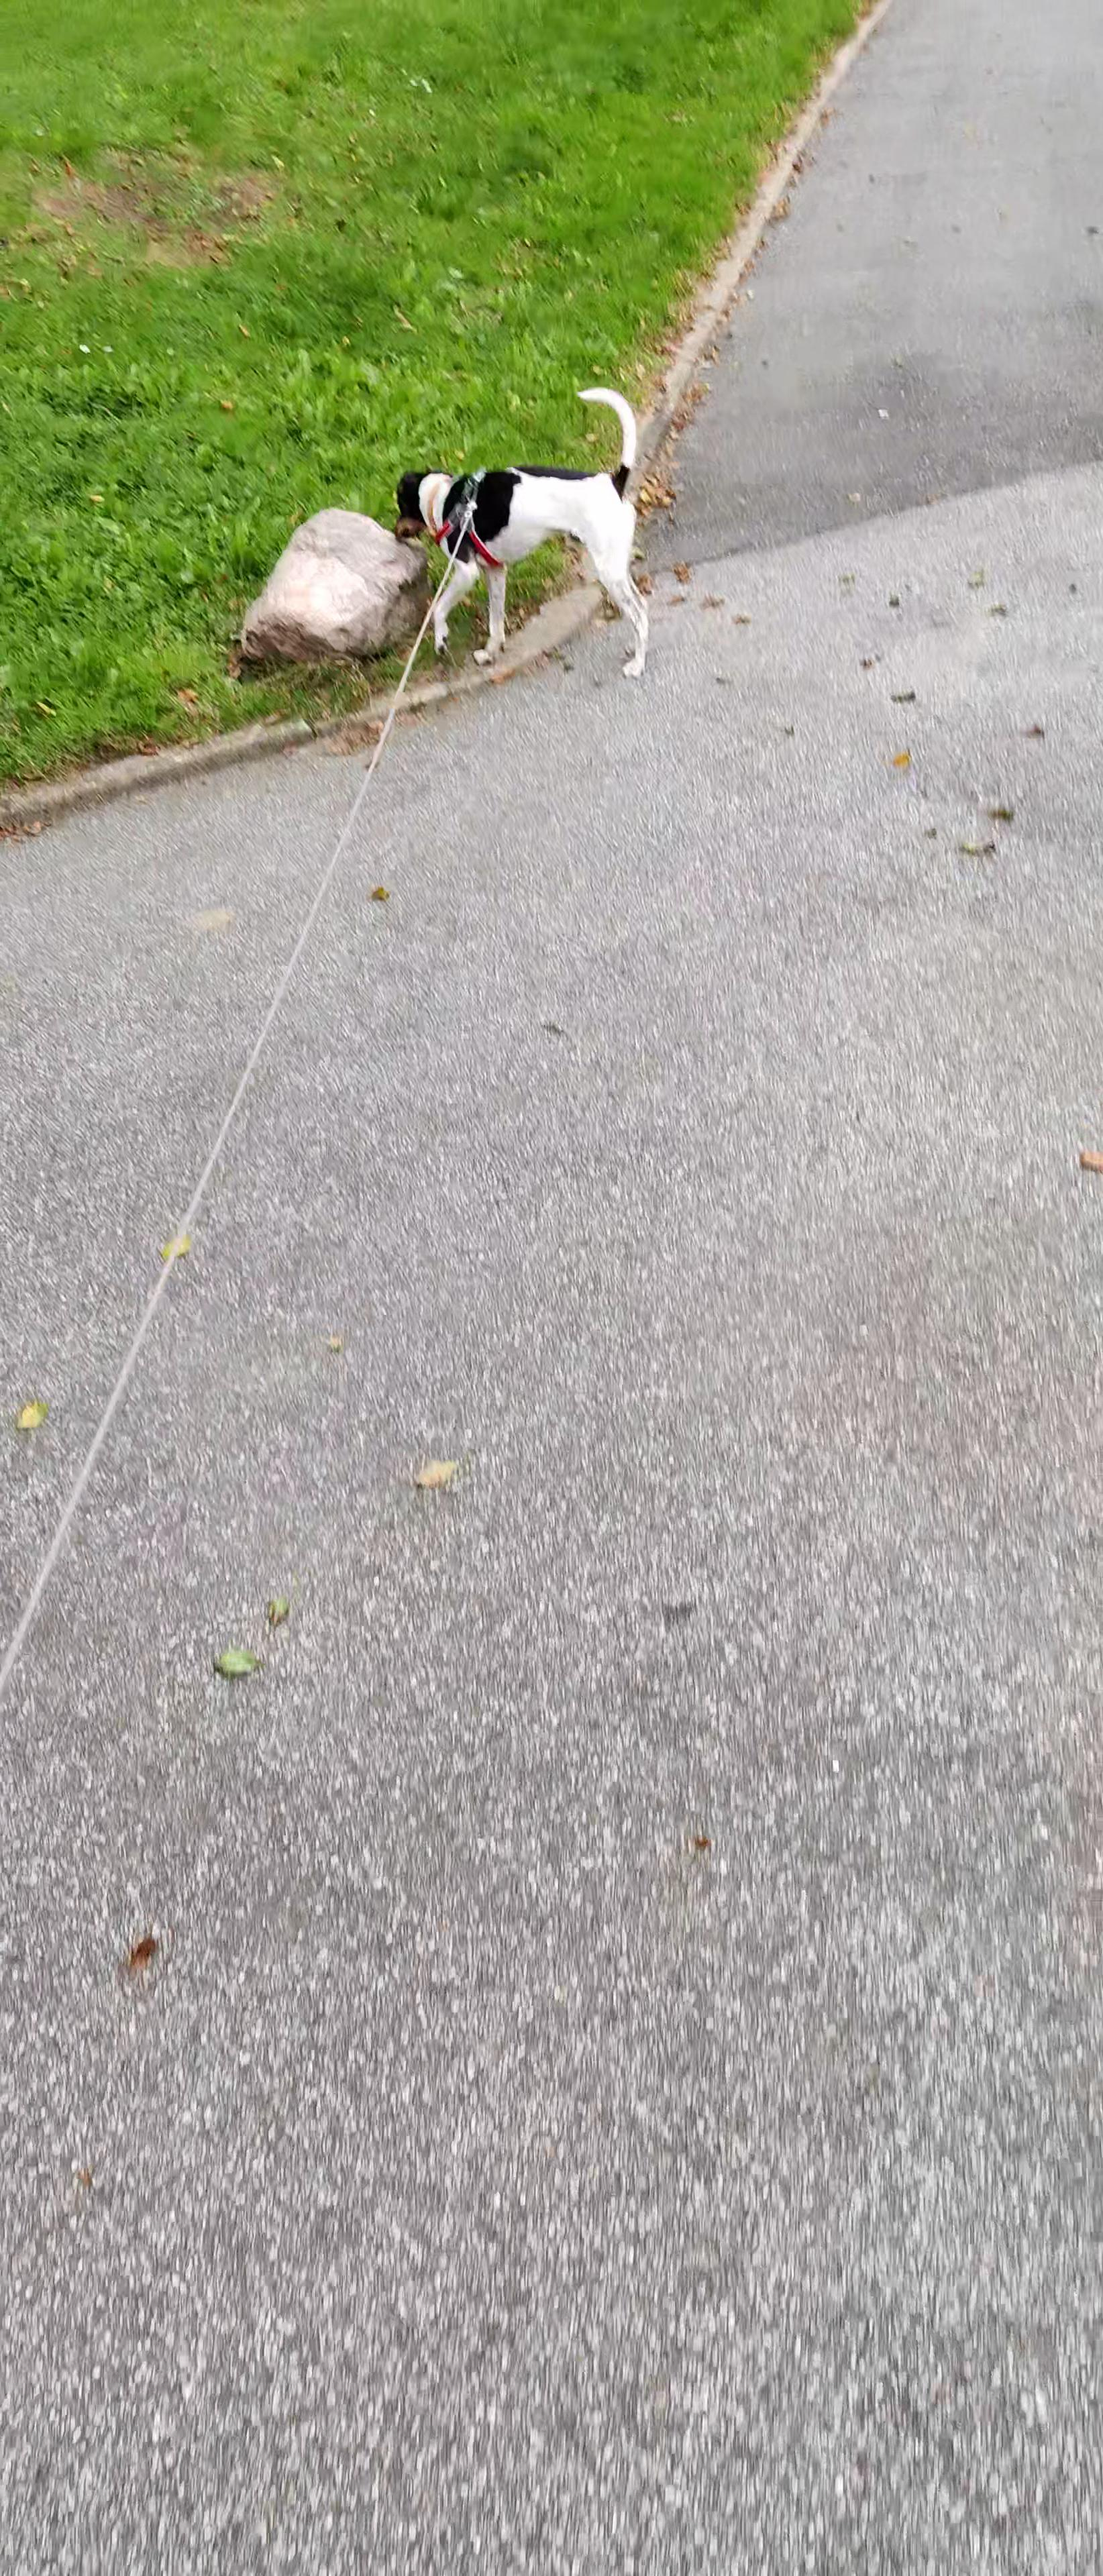Dog: (396, 371, 658, 680)
